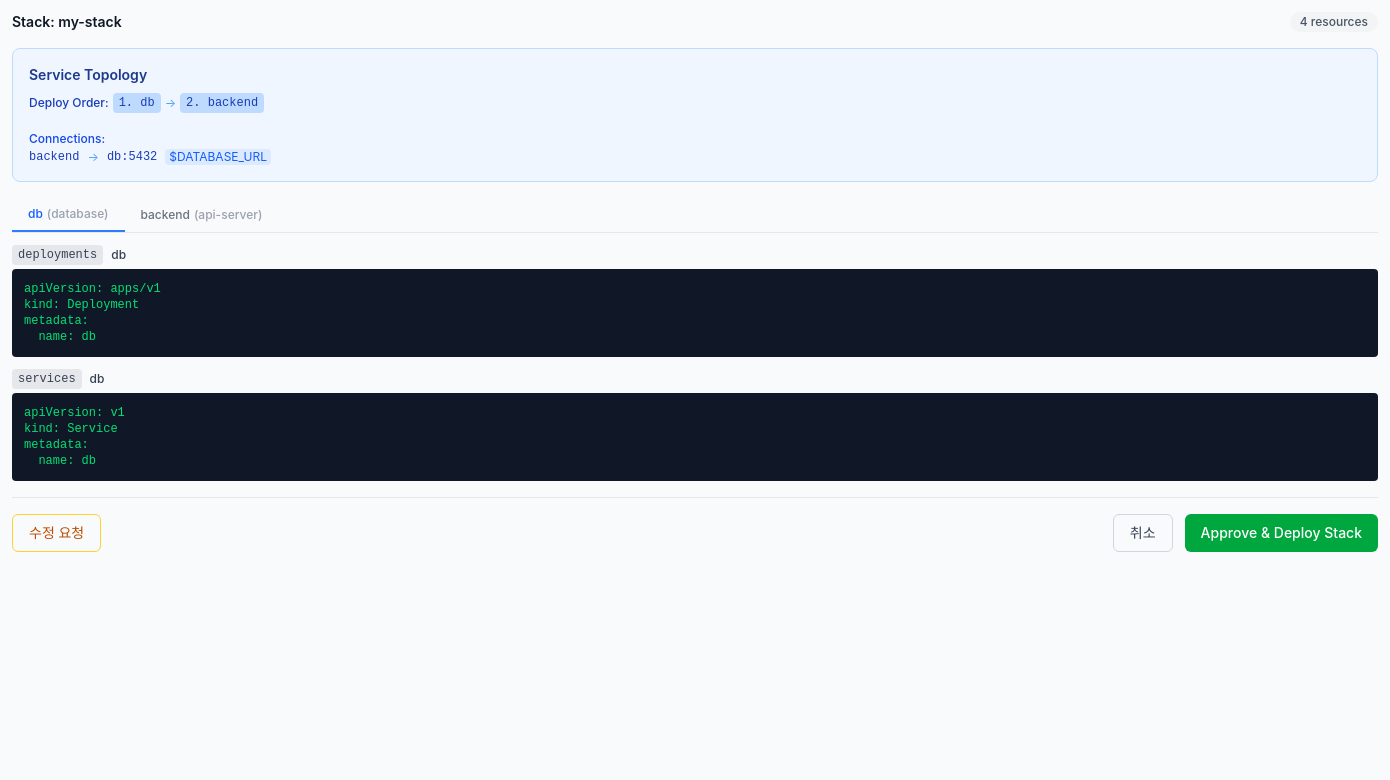
Test: StackManifestPreview › shows feedback section when 수정 요청 button clicked
Click the button "수정 요청": point(57, 533) [12,514,101,552]
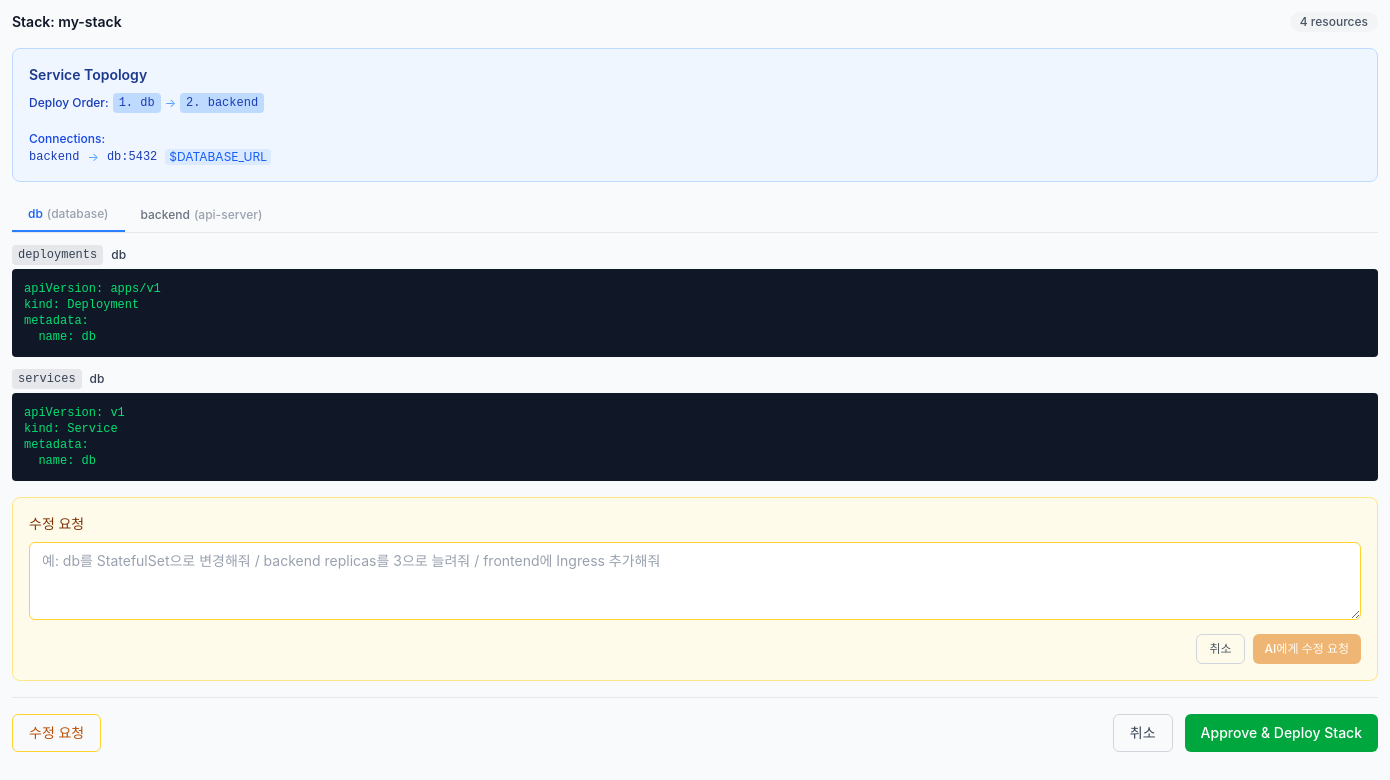
Expected: the text box with placeholder "db를 StatefulSet으로" is shown, [29,542,1361,620]
